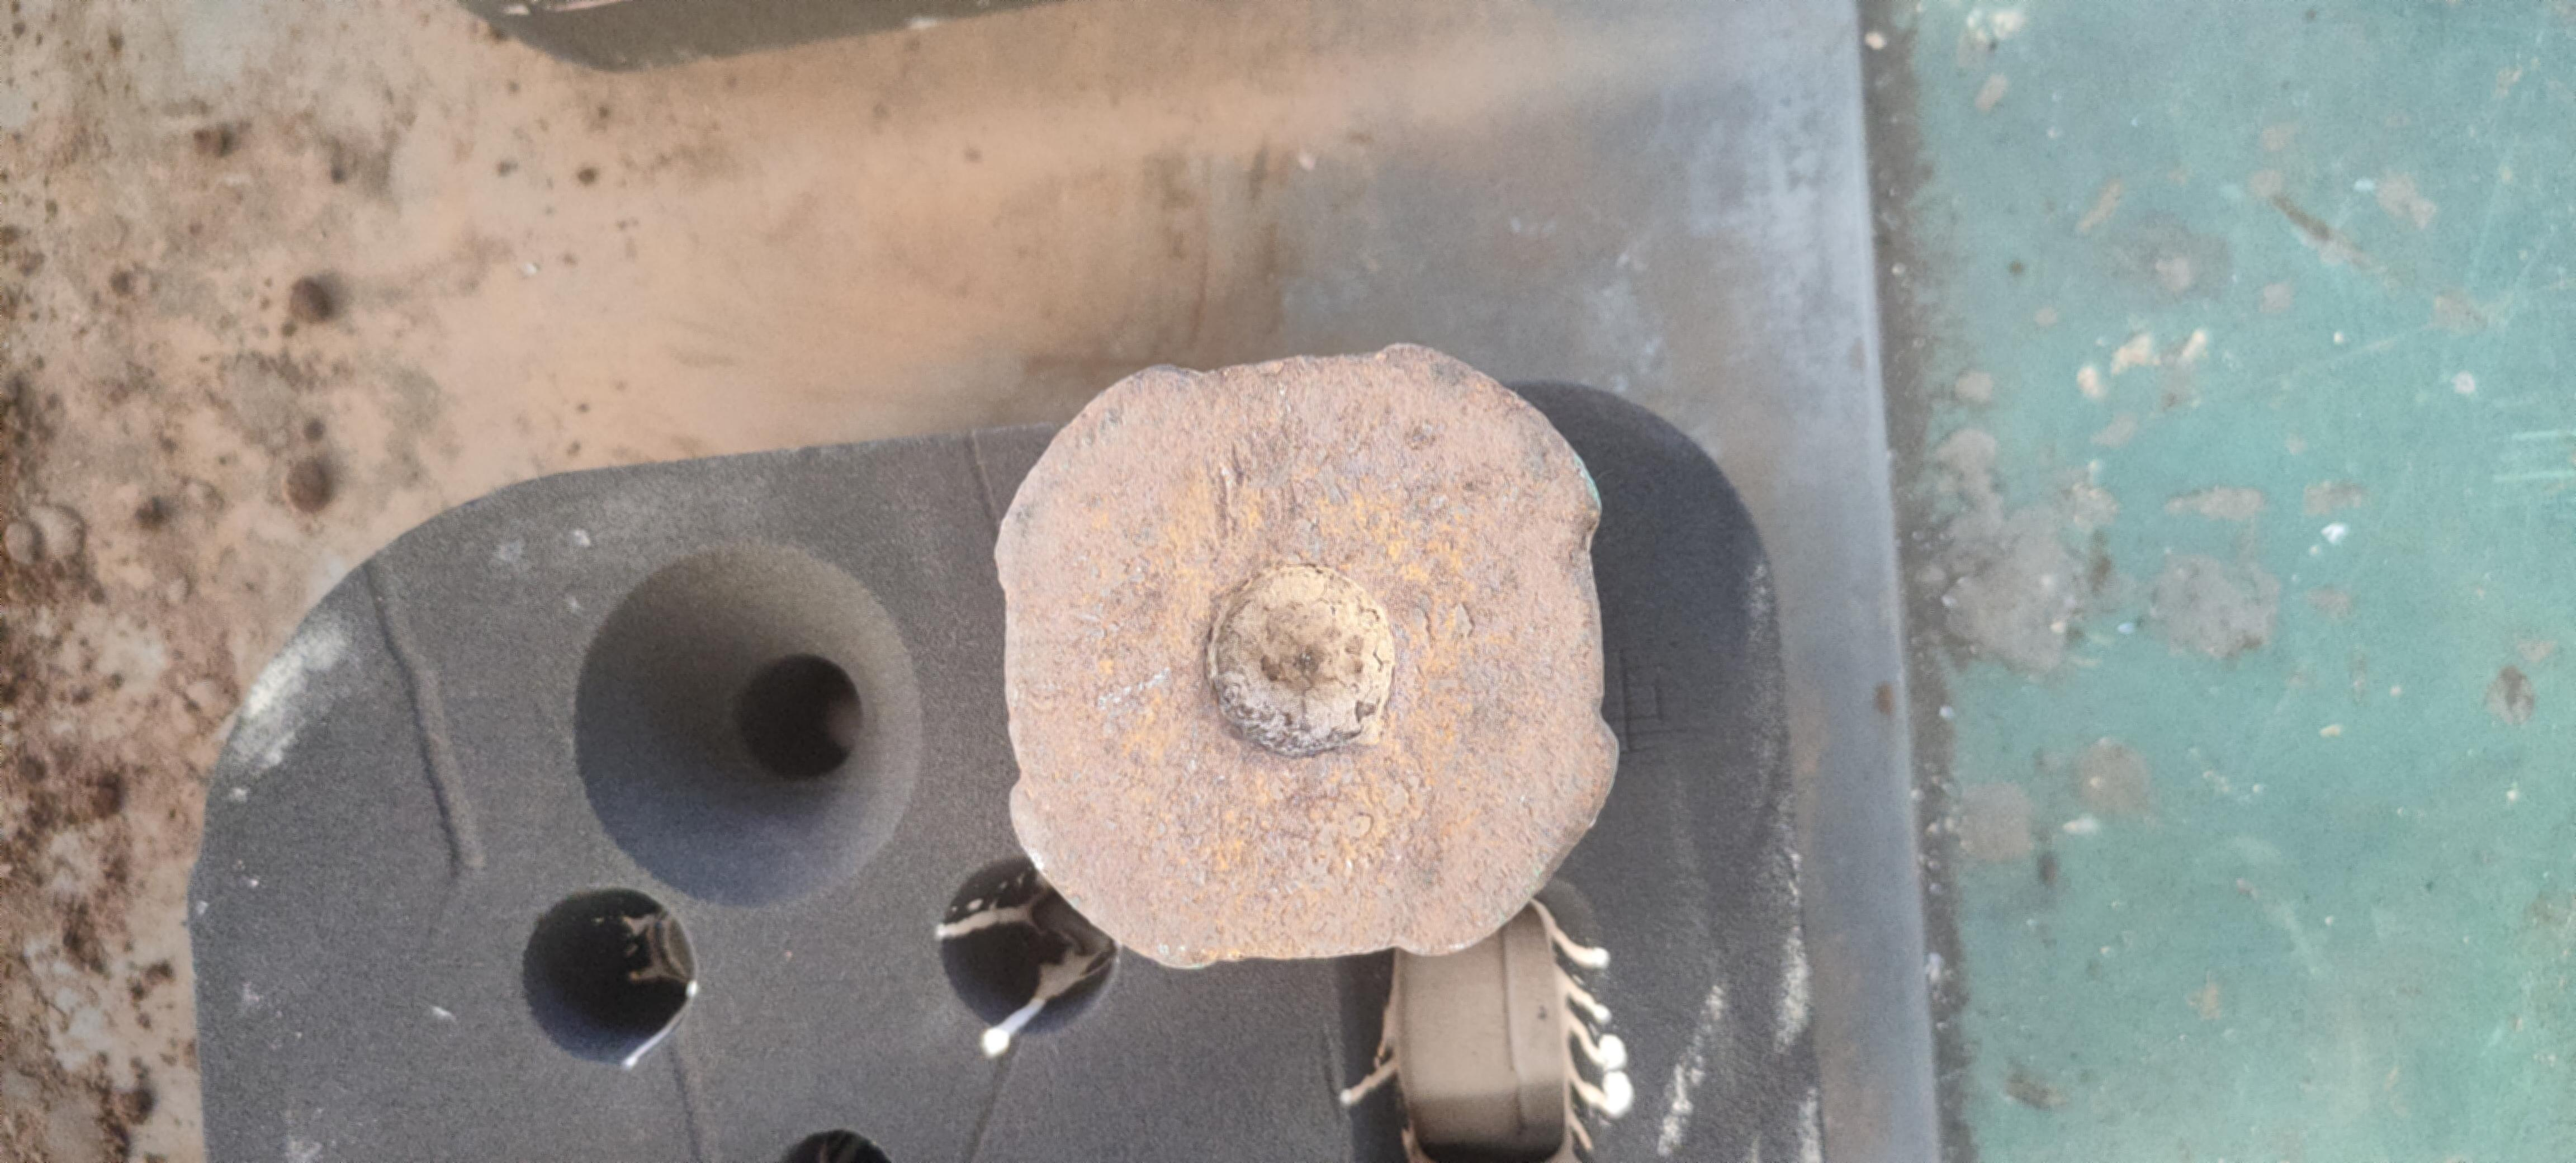pouring hole: (575, 545, 922, 905)
